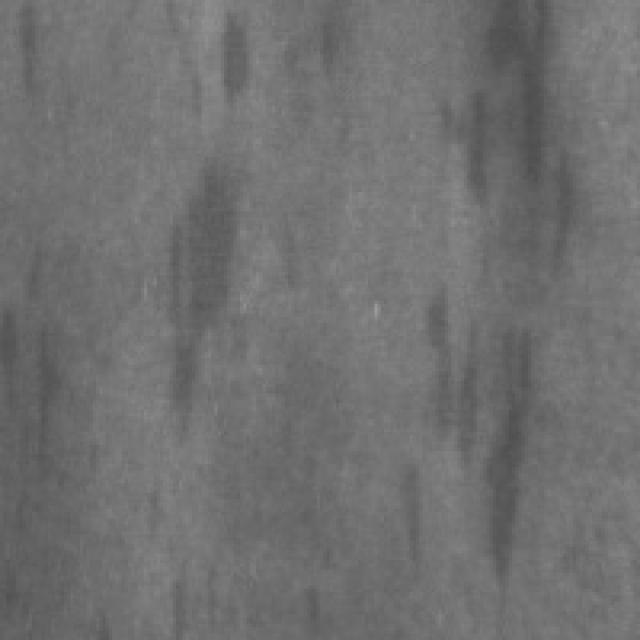inclusion: (416, 272, 557, 611), (448, 0, 576, 275), (157, 138, 256, 448), (3, 234, 80, 471), (198, 0, 260, 112), (387, 448, 435, 579), (3, 3, 48, 90)
